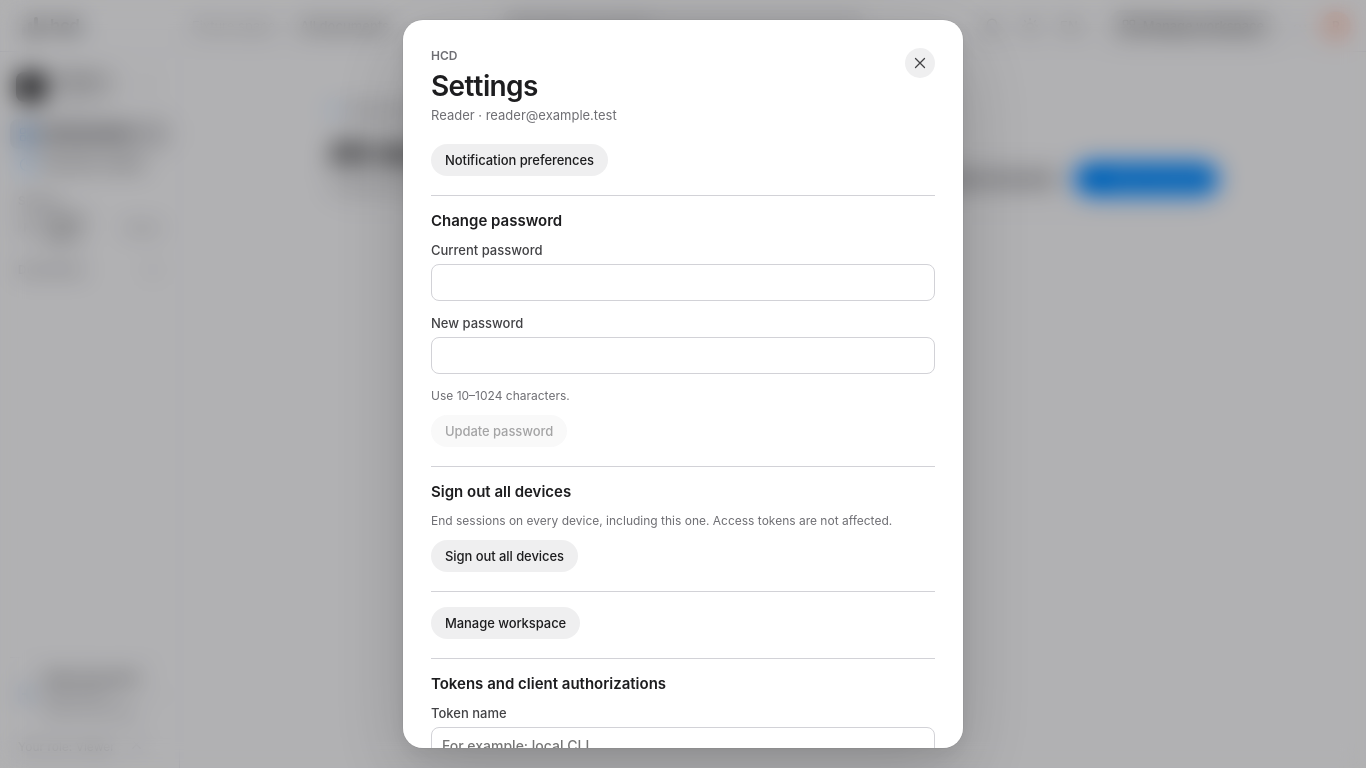
Test: C2 reflects signing out all devices in the login route
Step 1. Click the button "Sign out all devices" → (504, 556), box [431,540,578,572]
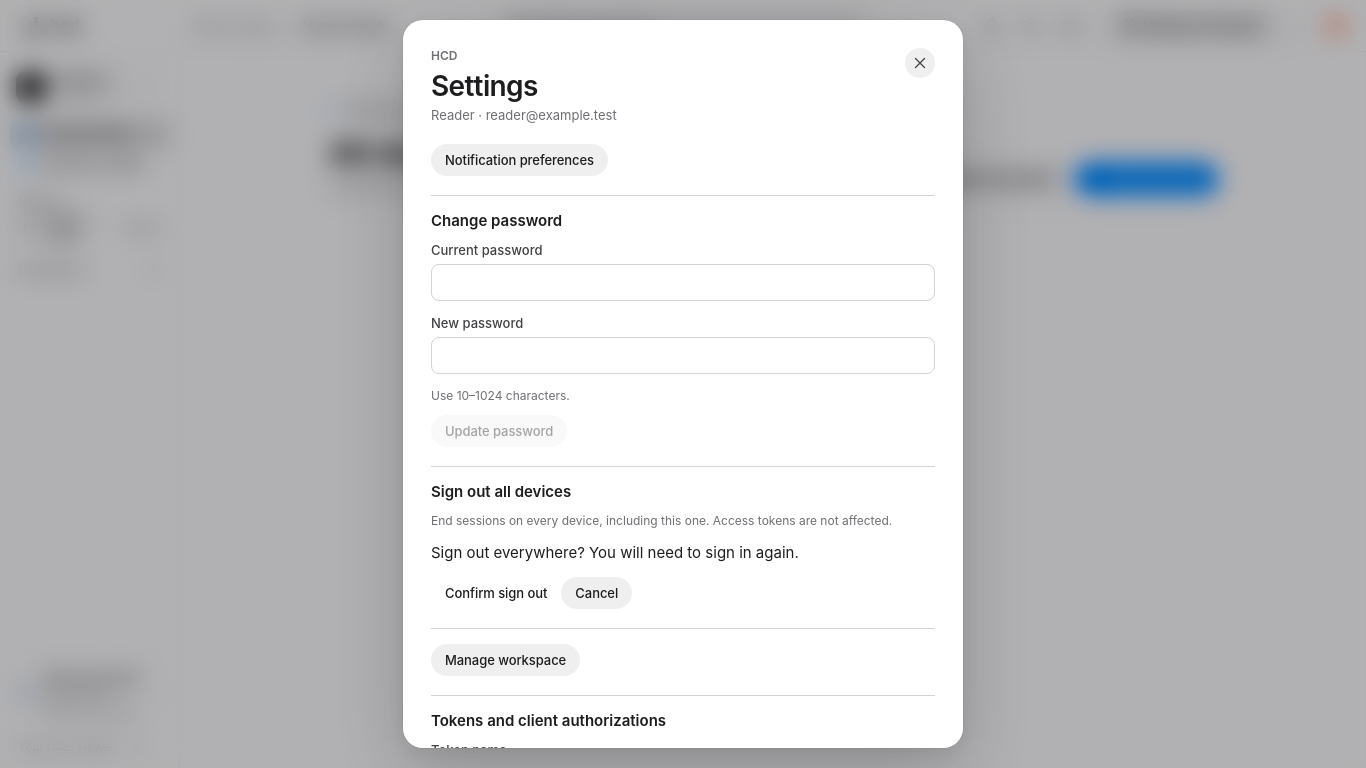
Step 2. Click the button with class "button-danger" → (496, 593), box [431,577,561,609]
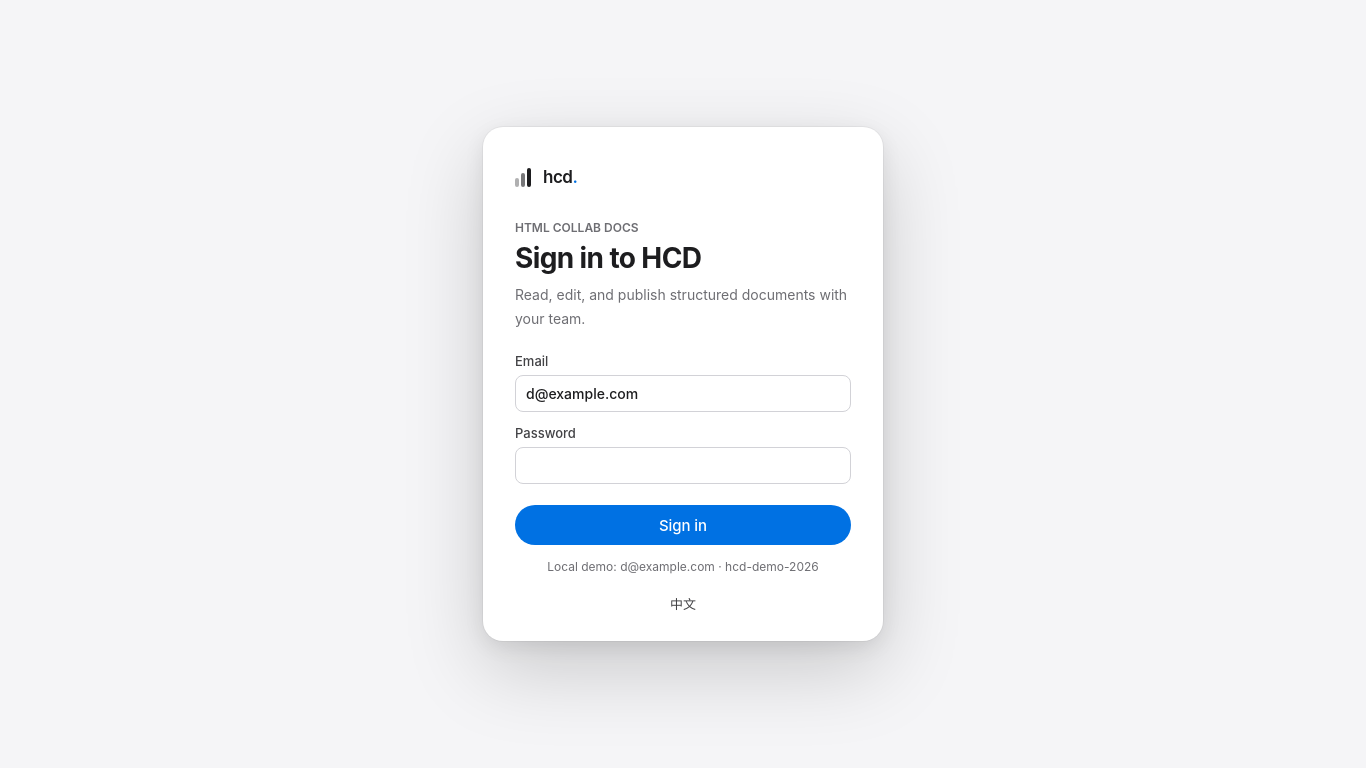
Expected: the form with class "auth-card" is shown, [483,127,883,641]
